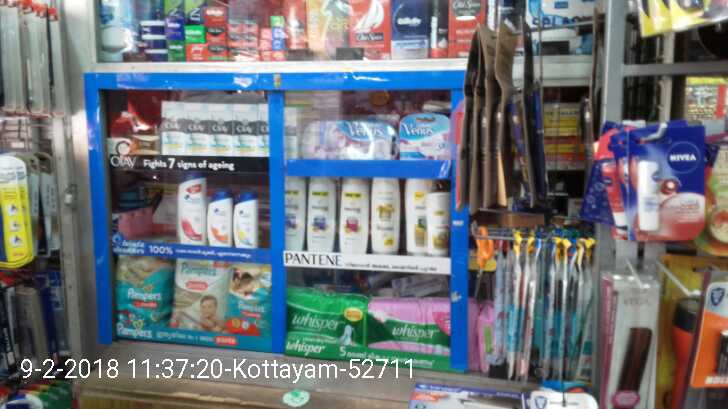gillete: (395, 1, 436, 58)
venus: (308, 121, 399, 157), (403, 114, 448, 156)
